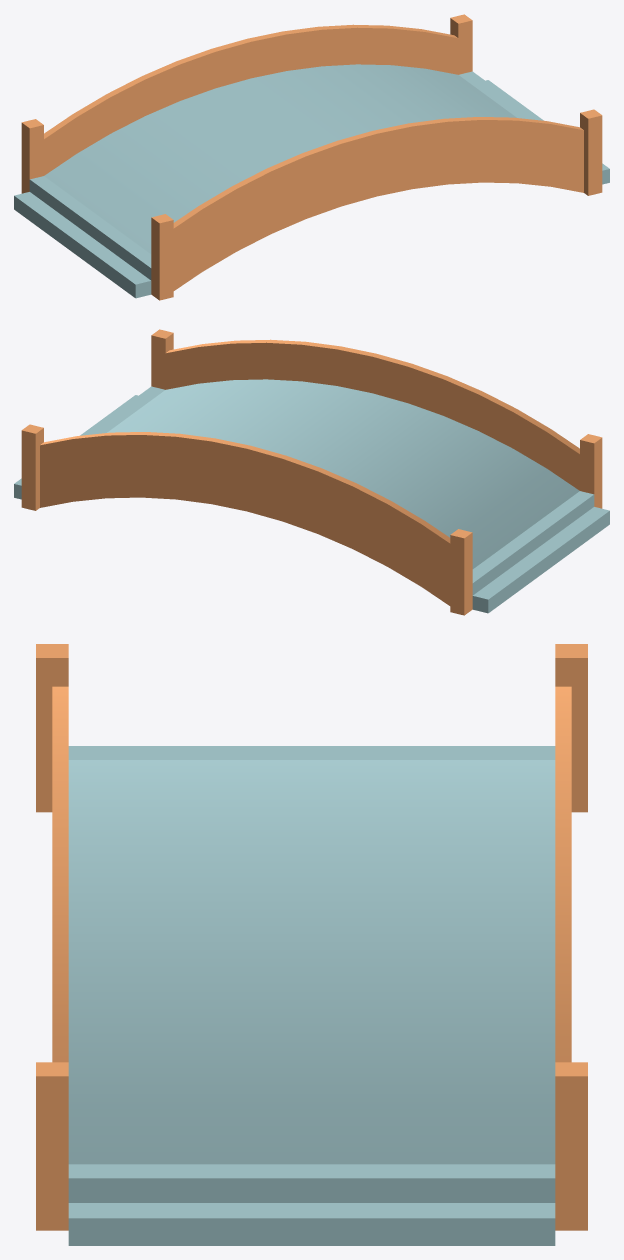
The model's file is bridge_arch.obj.
3 renders of one model, top to bottom at view 1: azimuth 30°, elevation 25°; view 2: azimuth 150°, elevation 25°; view 3: azimuth 270°, elevation 25°, orthographic. The views are drawn at different scales.
Visible parts, largest first — view 1: bridge_arch; view 2: bridge_arch; view 3: bridge_arch.
Boxes of the visible parts, bbox=[...] form: bridge_arch: bbox=[14, 14, 609, 300]; bridge_arch: bbox=[14, 329, 609, 615]; bridge_arch: bbox=[36, 644, 587, 1245].
Size of the model in its own units: 9.5 by 2.1 by 4.78.
